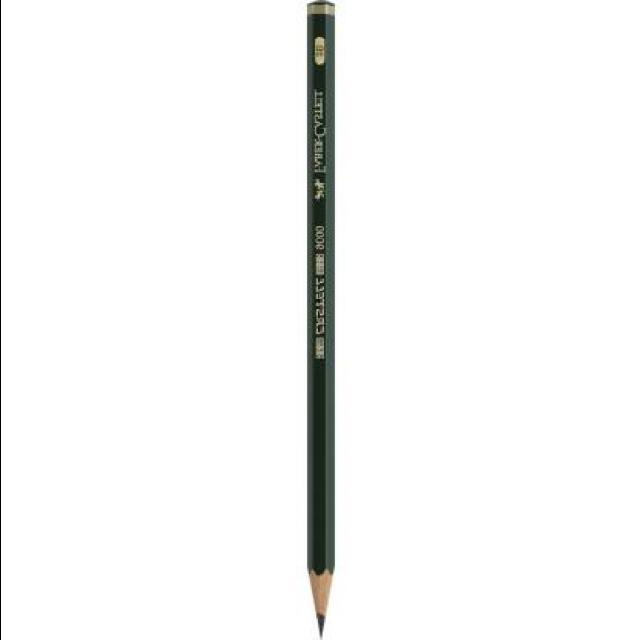Pencil: (292, 552, 346, 640)
